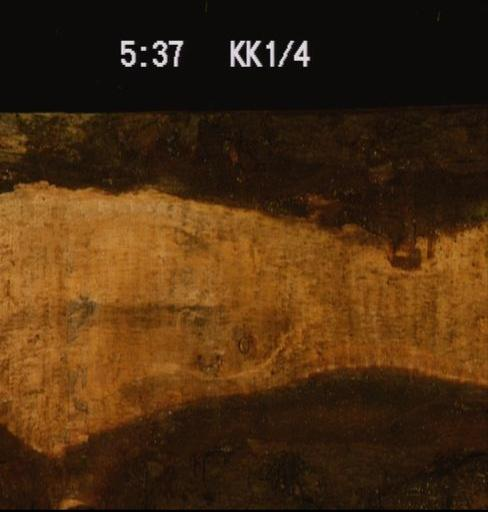dry_knot: (235, 333, 249, 354)
wave: (0, 100, 486, 269), (0, 363, 486, 508)
